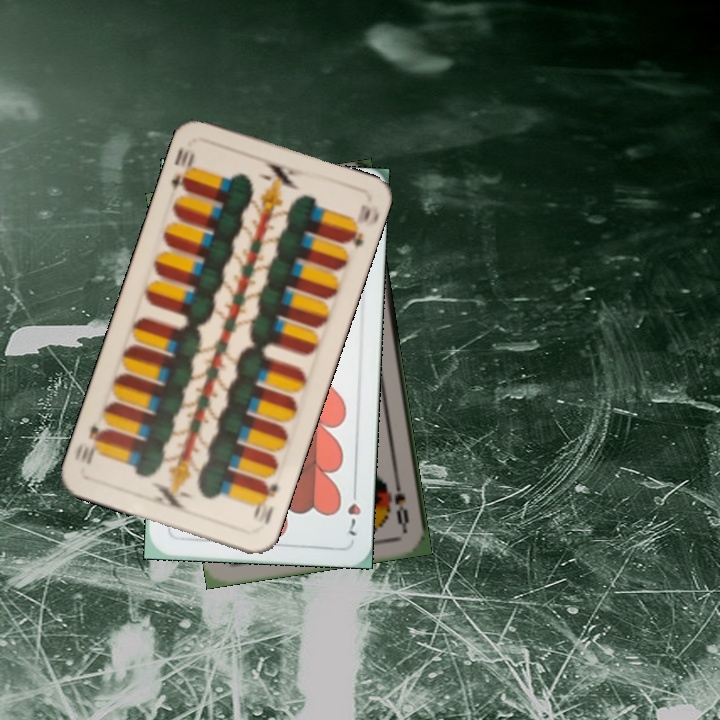E10: (249, 477, 281, 527), (167, 145, 198, 194)
H7: (344, 482, 364, 538)
SO: (390, 473, 412, 532)
